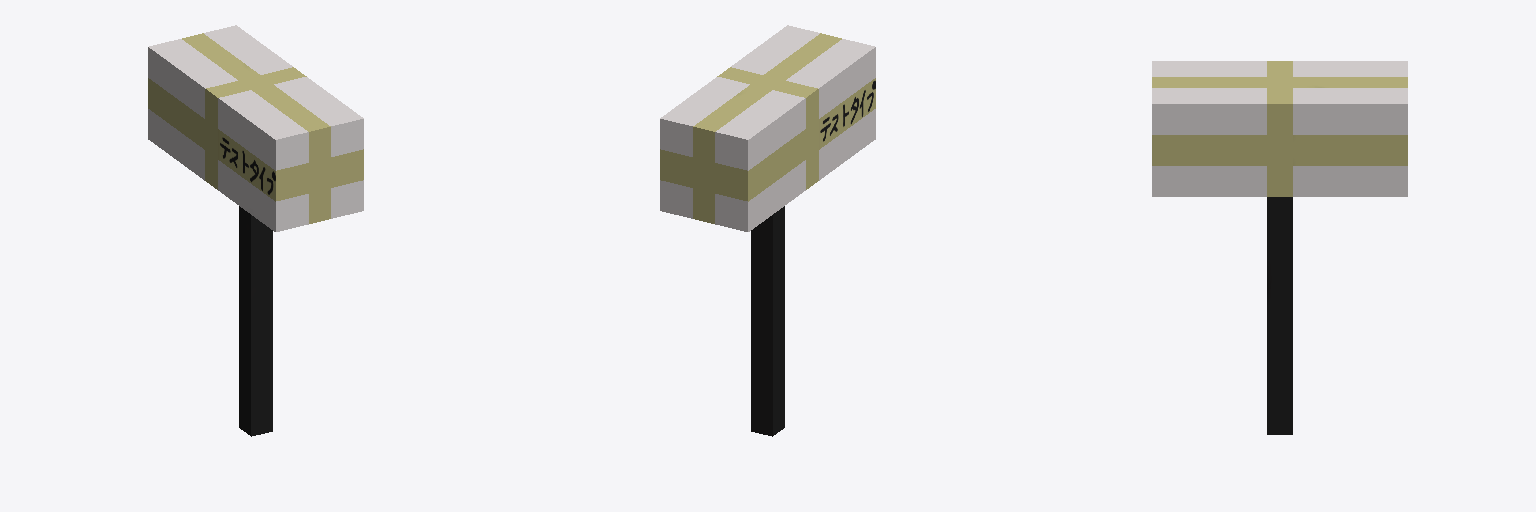
3 renders of one model, left to right at view 1: azimuth 30°, elevation 25°; view 2: azimuth 150°, elevation 25°; view 3: azimuth 270°, elevation 25°, orthographic.
Parts seen in each view (by area): view 1: 立方体; view 2: 立方体; view 3: 立方体.
Boxes of the visible parts, <box> form: 立方体: <box>148,25,363,436</box>; 立方体: <box>660,25,875,436</box>; 立方体: <box>1152,61,1407,434</box>.
Size of the model in its own units: 2 by 7.5 by 5.
1 materials, 1 textured.